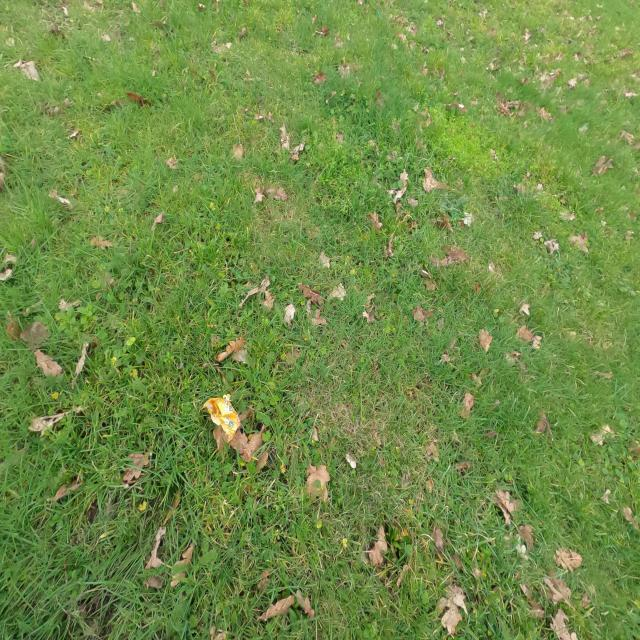Plastic: (200, 392, 242, 444)
